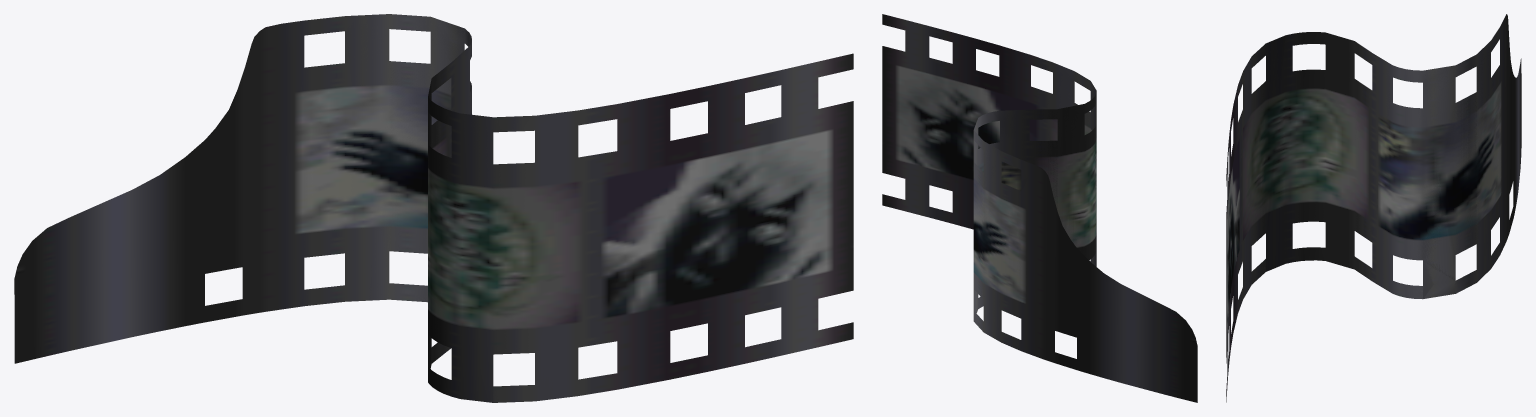
The model's file is zero.ico.obj.
The picture shows the model from 3 angles, left to right: view 1: azimuth 30°, elevation 25°; view 2: azimuth 150°, elevation 25°; view 3: azimuth 270°, elevation 25°; orthographic projection. The views are drawn at different scales.
Size of the model in its own units: 3.93 by 1.64 by 1.92.
Materials: 1 (1 with a texture image).
